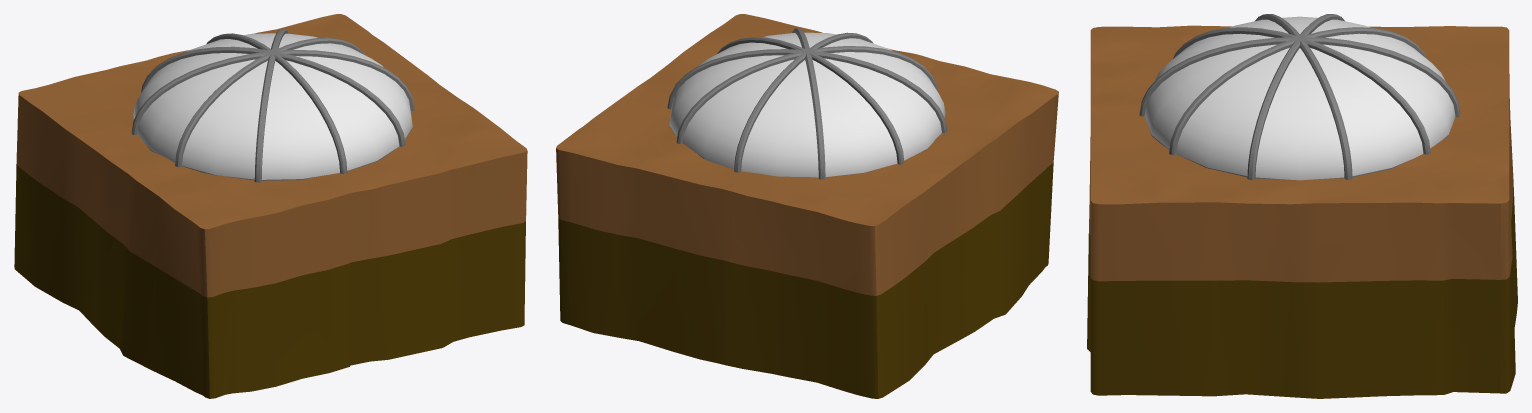
The model's file is base_camp.fbx.
3 renders of one model, left to right at view 1: azimuth 30°, elevation 25°; view 2: azimuth 150°, elevation 25°; view 3: azimuth 270°, elevation 25°, orthographic. The views are drawn at different scales.
Parts seen in each view (by area): view 1: ground3, pSphere5; view 2: ground3, pSphere5; view 3: ground3, pSphere5.
Boxes of the visible parts, x1,y1,x2,y2 form: ground3: [14, 14, 527, 398]; pSphere5: [131, 28, 414, 182]; ground3: [556, 14, 1058, 398]; pSphere5: [667, 28, 947, 179]; ground3: [1087, 25, 1517, 398]; pSphere5: [1139, 14, 1460, 180].
Bounding box in the file's own units: 20.78 × 14.12 × 20.34.
